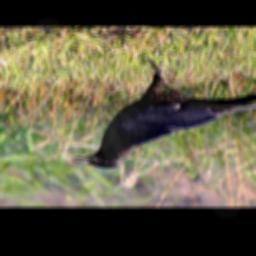Crow: (69, 55, 256, 170)
